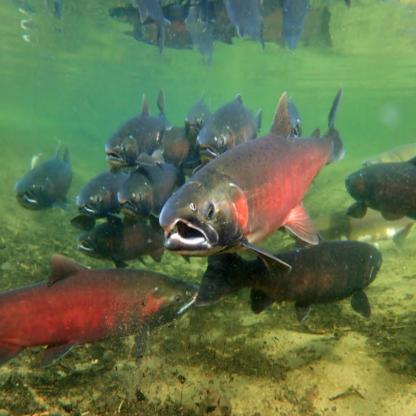sockeye: (167, 95, 341, 255), (2, 277, 190, 358)
sockeye-group: (35, 113, 382, 332)
